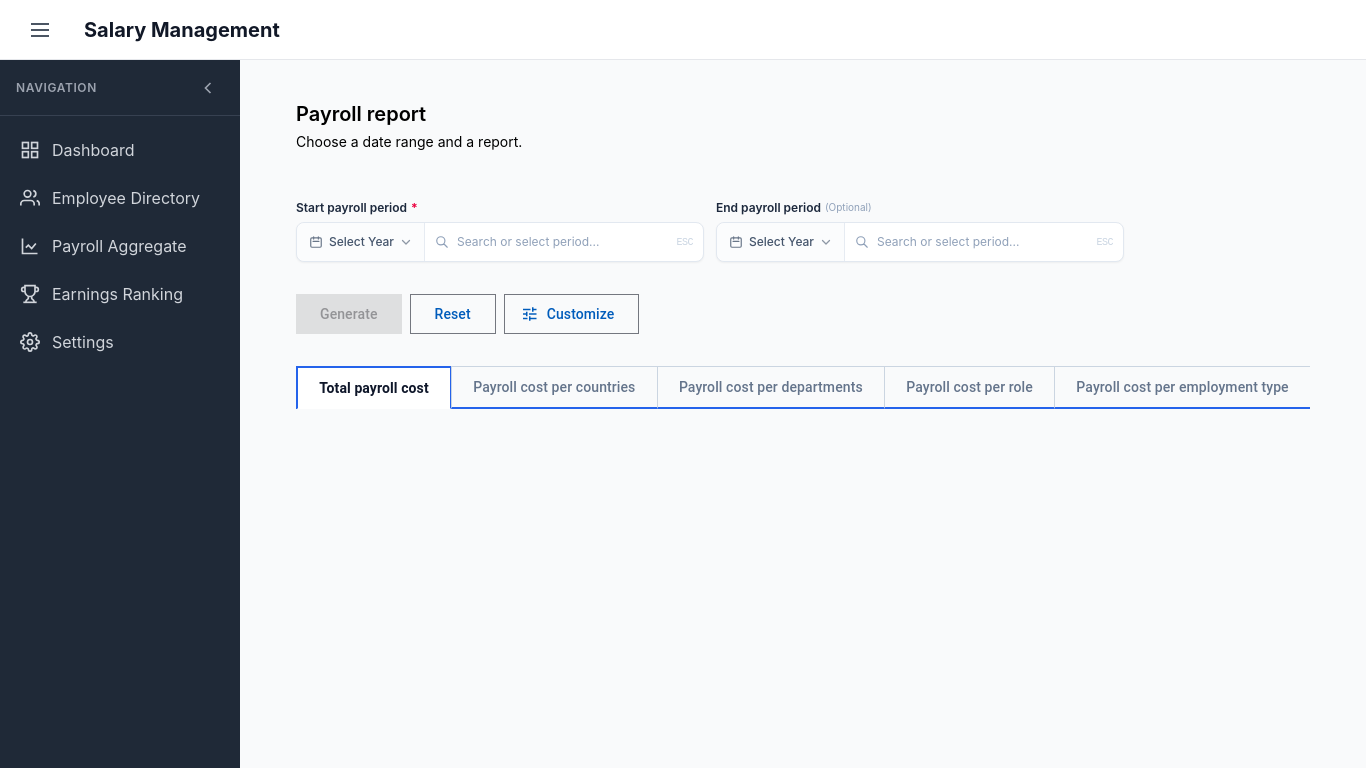
Test: Aggregate Report Page › should show a blocker for MISSING_FX_RATE (HTTP 400)
Click the button "Select Year" below "Start payroll period".
click(361, 242)  # box [297, 223, 425, 261]
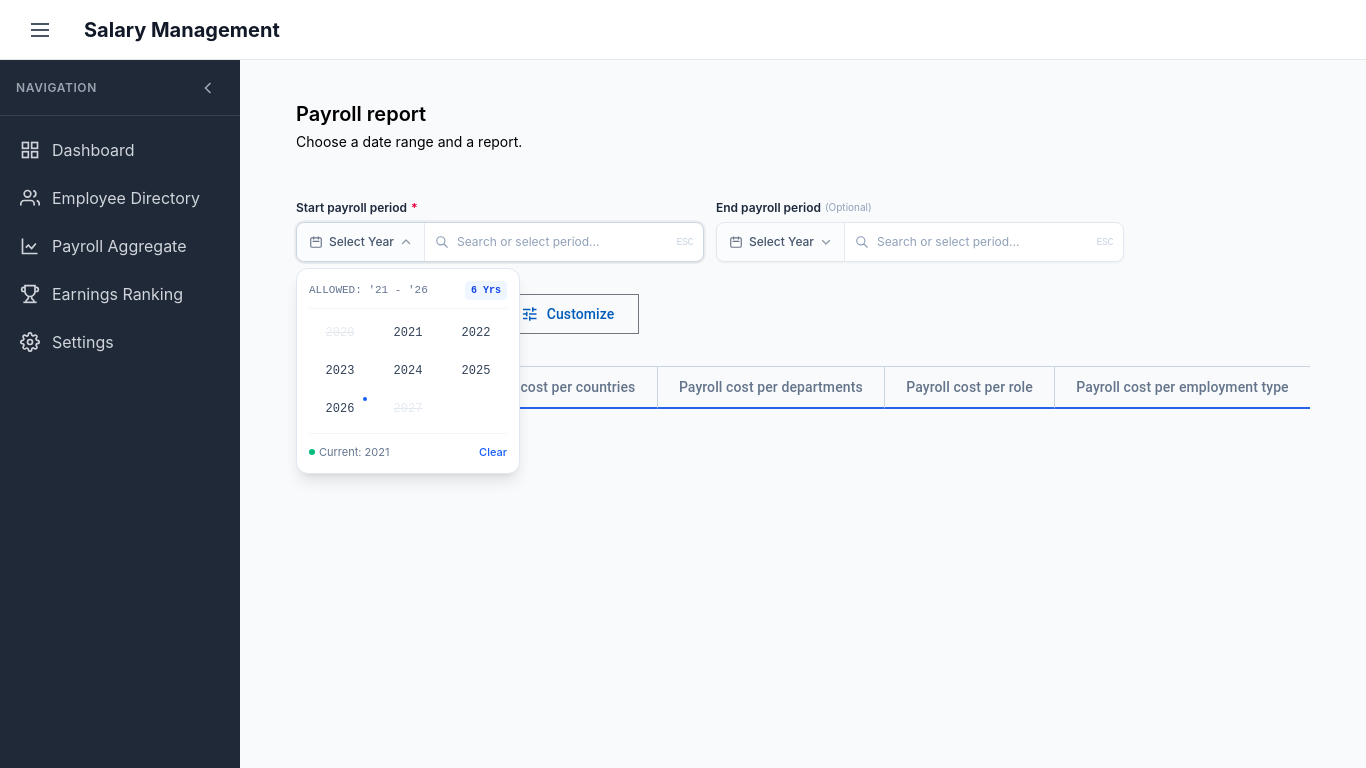
Check: the button with test id "period-picker-year-2026" is shown
Click the button with test id "period-picker-year-2026".
click(340, 409)  # box [309, 393, 371, 425]
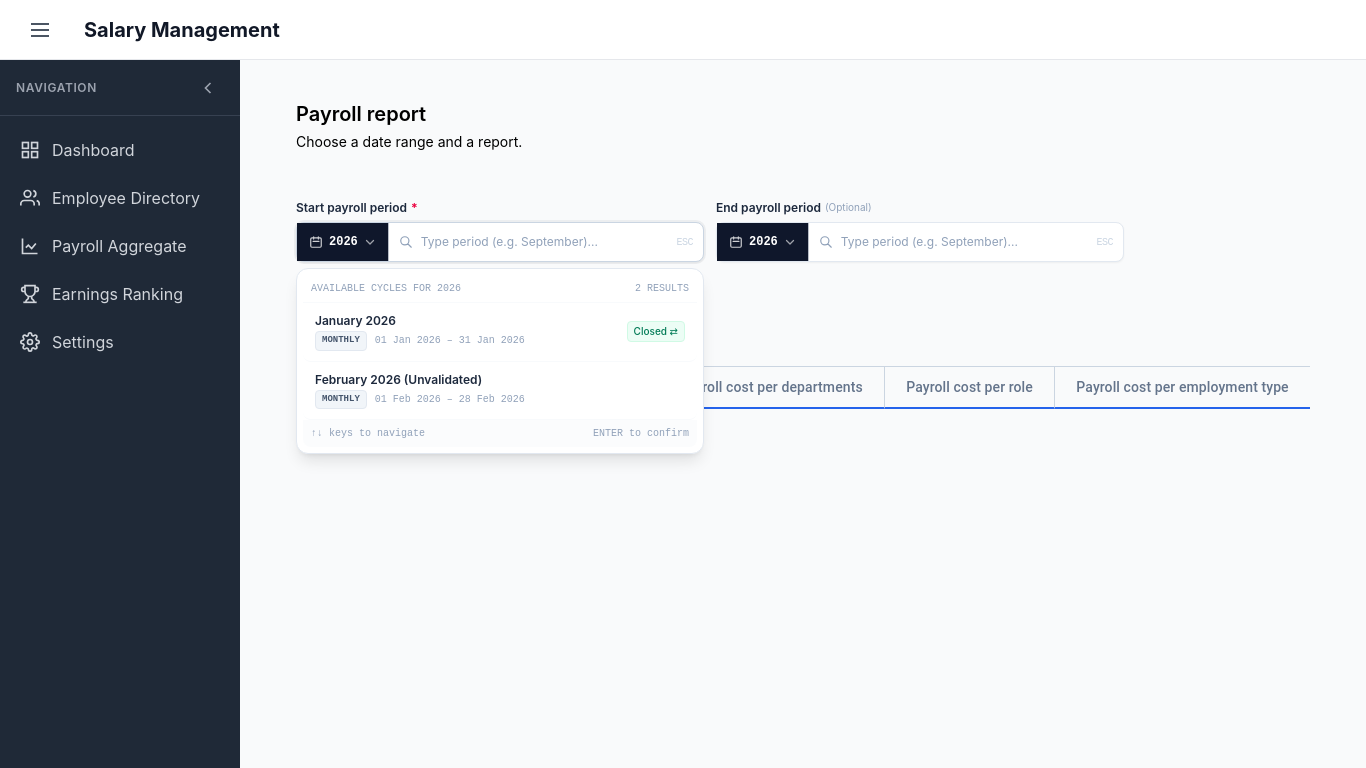
Click the button that starts with "February 2026 (Unvalidated)".
click(500, 392)  # box [303, 362, 697, 421]
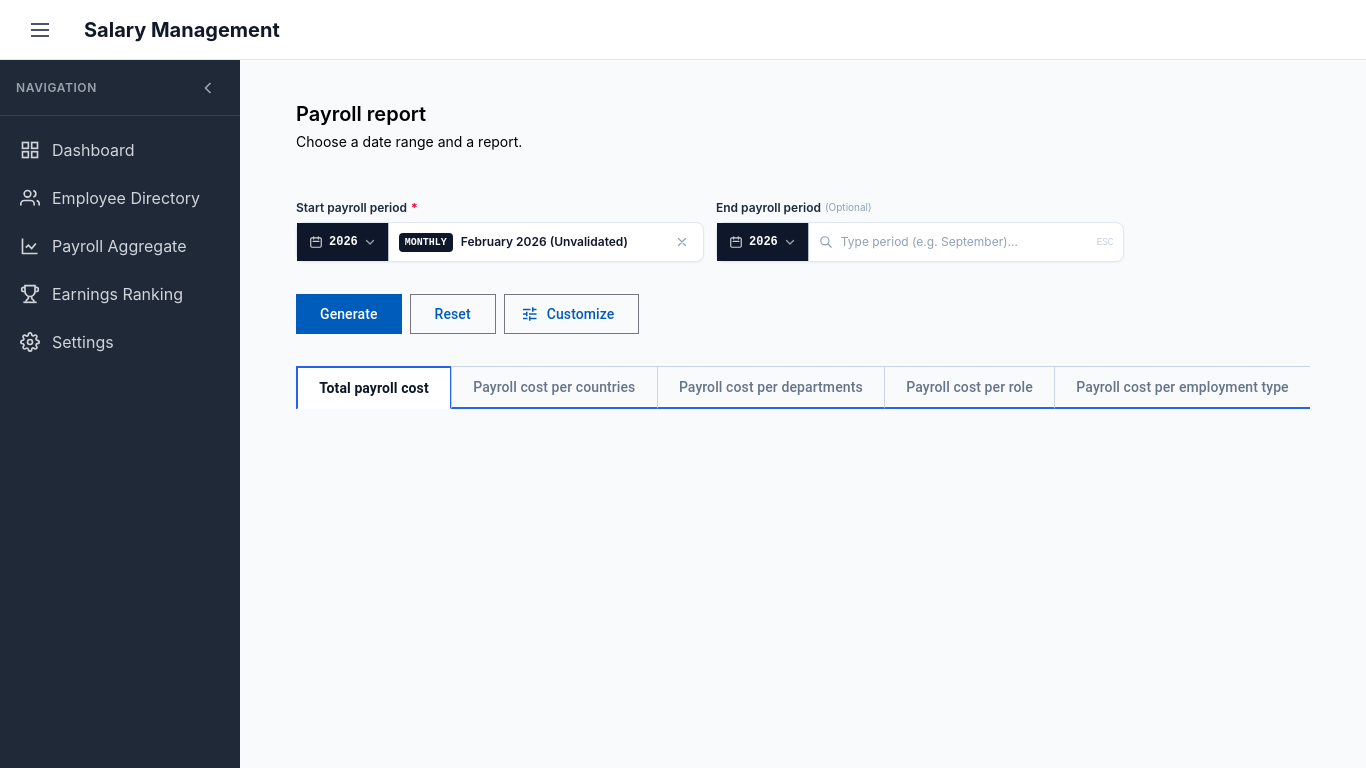
Click the button with test id "btn-generate".
click(349, 314)  # box [296, 294, 402, 334]
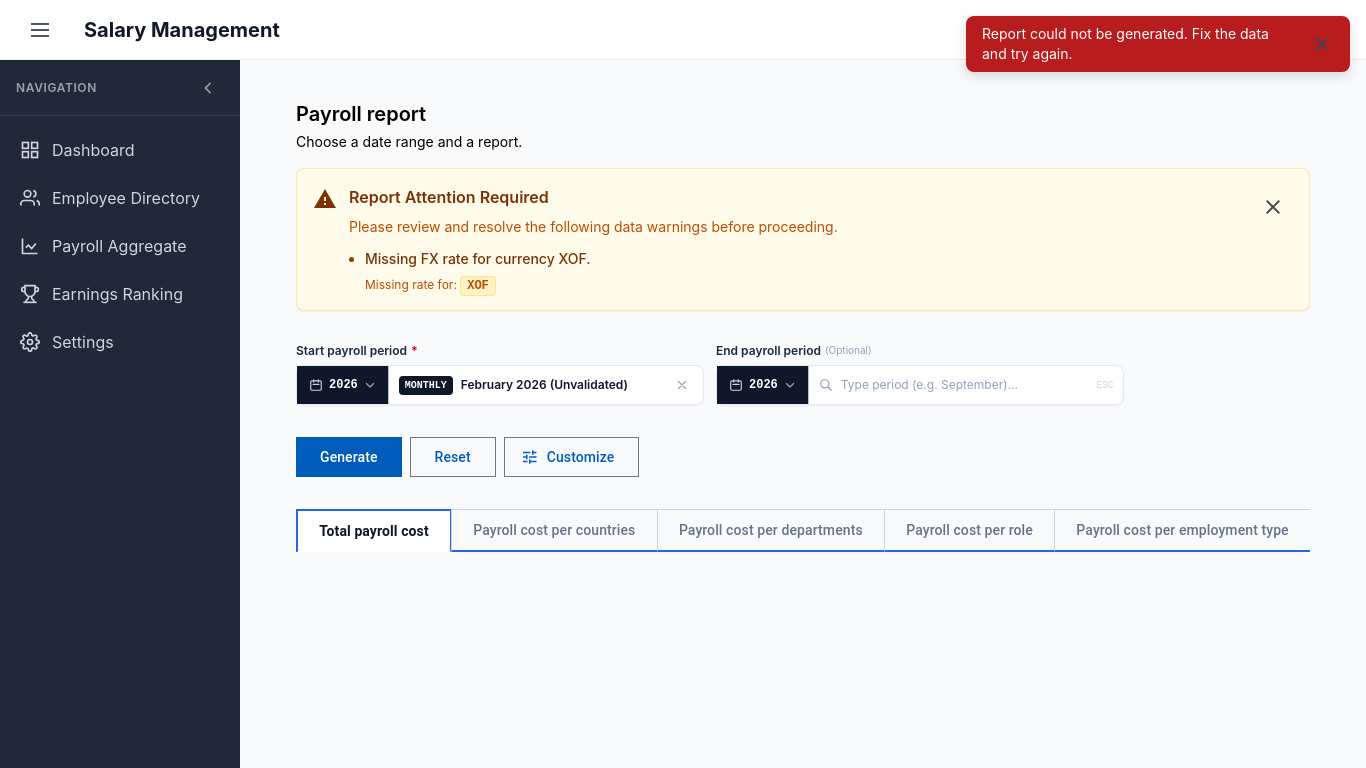
Check: the message with test id "blocker-banner" is shown, box [296, 168, 1310, 311]
Check: the heading with test id "blocker-banner" reads "Report Attention Required", box [349, 187, 549, 207]
Check: the text with test id "blocker-message-MISSING_FX_RATE" shows "Missing FX rate", box [365, 250, 590, 267]
